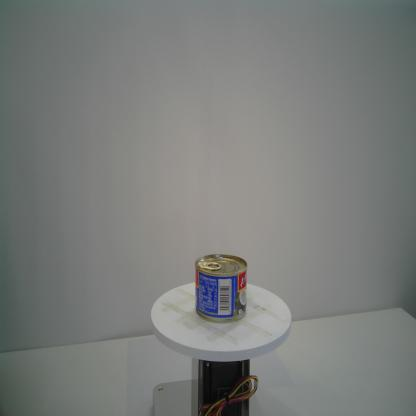Canned Food: (194, 252, 248, 326)
